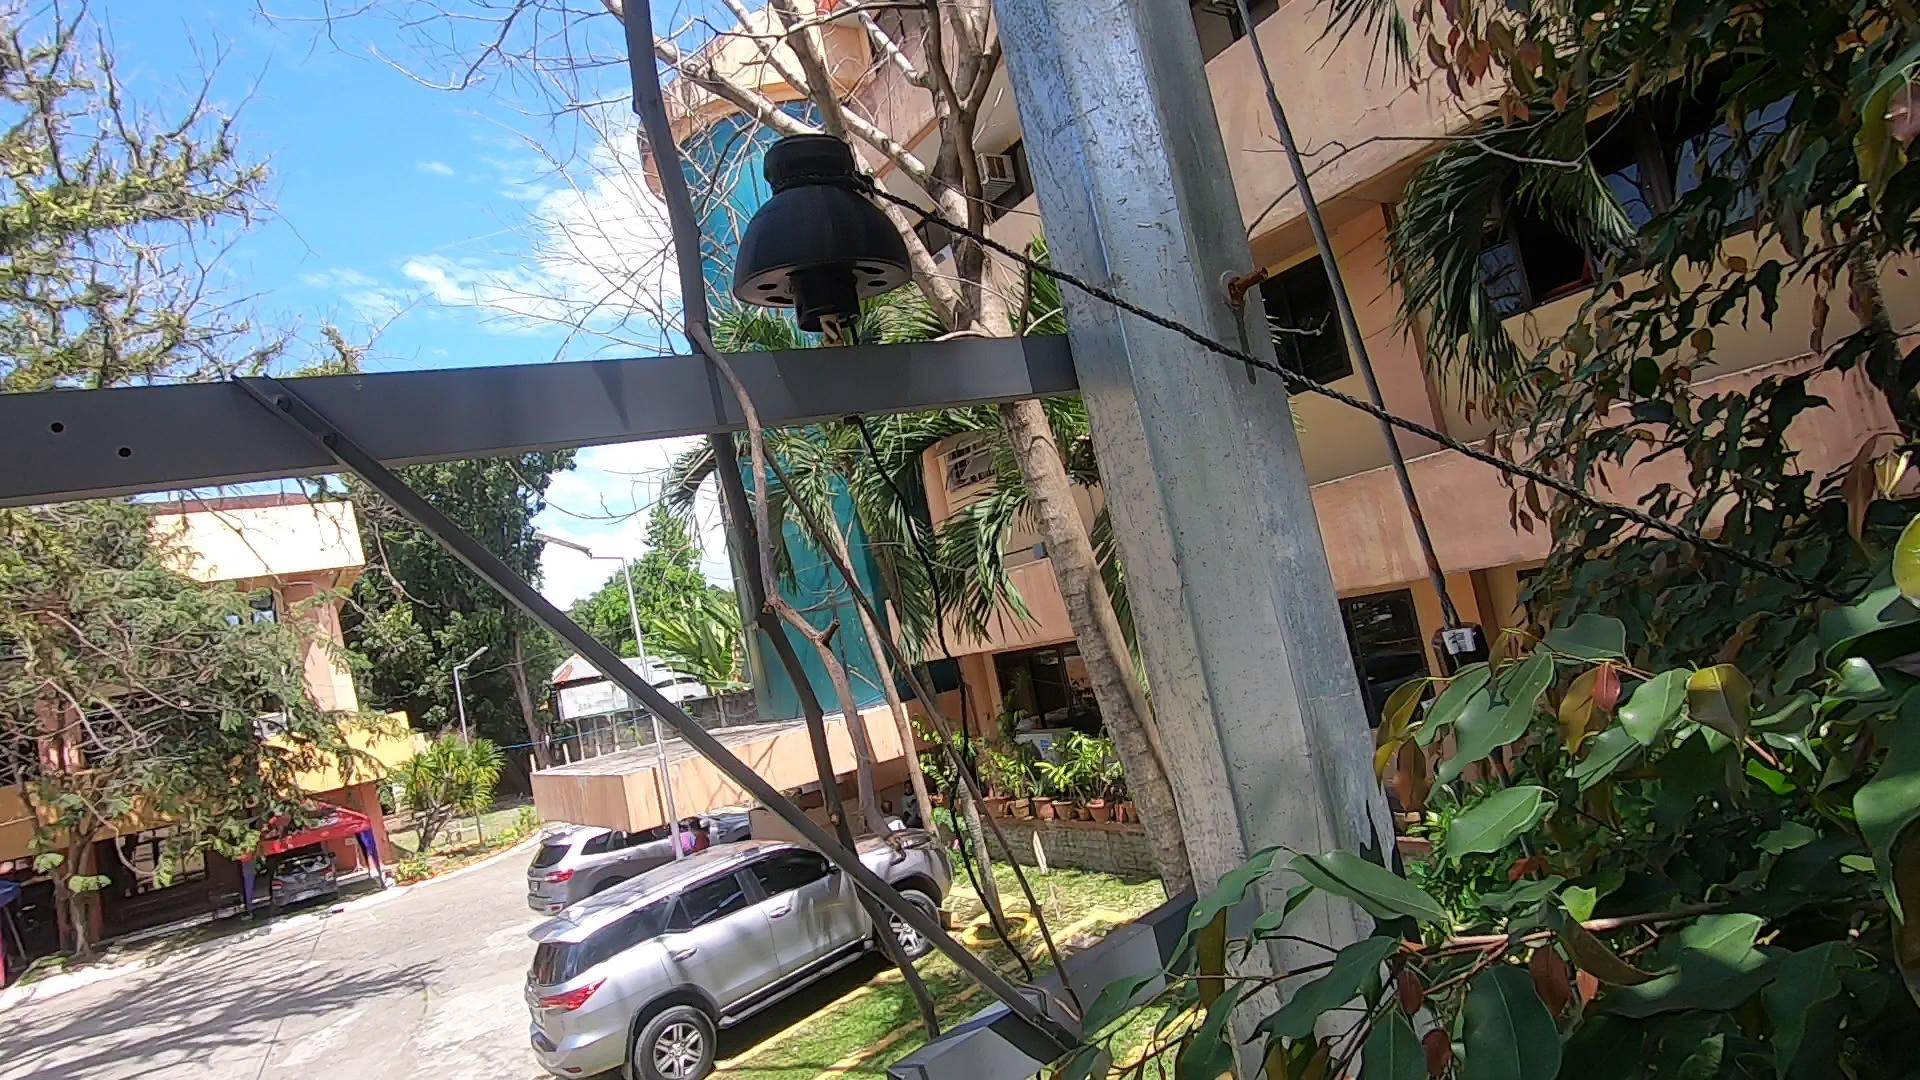tree branch: (578, 3, 1052, 1080)
